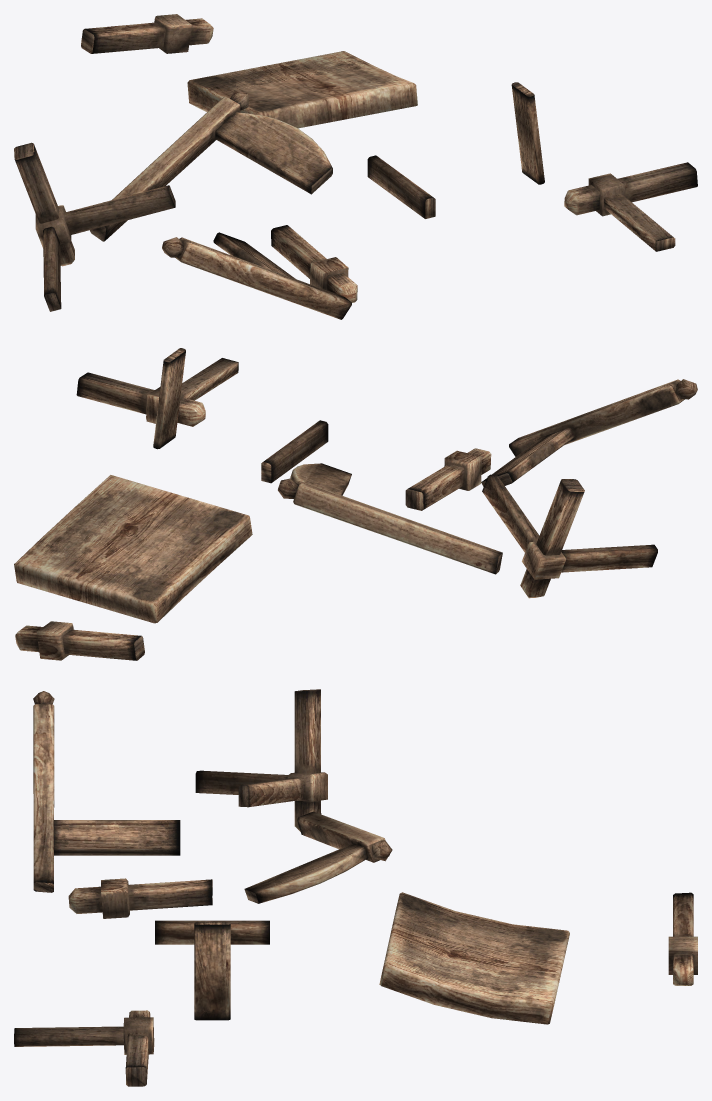
Rendered from chair_wood02_broken.dae.
3 views of the same model, one above another, from view 1: azimuth 30°, elevation 25°; view 2: azimuth 150°, elevation 25°; view 3: azimuth 270°, elevation 25° (orthographic).
Parts seen in each view (by area): view 1: chair_wood02_007, chair_wood02_015, chair_wood02_011, chair_wood02_017, chair_wood02_009, chair_wood02_001, chair_wood02_004, chair_wood02_016, chair_wood02_010; view 2: chair_wood02_007, chair_wood02_011, chair_wood02_015, chair_wood02_017, chair_wood02_009, chair_wood02_001, chair_wood02_004, chair_wood02_016, chair_wood02_010; view 3: chair_wood02_007, chair_wood02_017, chair_wood02_011, chair_wood02_015, chair_wood02_009, chair_wood02_004, chair_wood02_016, chair_wood02_001, chair_wood02_010.
Boxes of the visible parts, x1,y1,x2,y2 form: chair_wood02_007: (187, 51, 417, 128); chair_wood02_015: (90, 90, 332, 241); chair_wood02_011: (14, 142, 175, 311); chair_wood02_017: (162, 232, 351, 319); chair_wood02_009: (564, 162, 697, 251); chair_wood02_001: (81, 14, 213, 53); chair_wood02_004: (271, 225, 357, 302); chair_wood02_016: (511, 82, 544, 184); chair_wood02_010: (367, 155, 435, 218); chair_wood02_007: (14, 475, 252, 623); chair_wood02_011: (482, 474, 657, 598); chair_wood02_015: (278, 463, 502, 574); chair_wood02_017: (481, 379, 697, 486); chair_wood02_009: (76, 358, 238, 426); chair_wood02_001: (15, 621, 144, 660); chair_wood02_004: (405, 448, 491, 510); chair_wood02_016: (153, 348, 185, 449); chair_wood02_010: (261, 420, 328, 483); chair_wood02_007: (379, 892, 569, 1024); chair_wood02_017: (33, 691, 180, 892); chair_wood02_011: (195, 689, 327, 831); chair_wood02_015: (244, 811, 392, 903); chair_wood02_009: (14, 1010, 154, 1086); chair_wood02_004: (68, 878, 212, 918); chair_wood02_016: (194, 922, 230, 1020); chair_wood02_001: (668, 892, 697, 985); chair_wood02_010: (155, 920, 269, 944).
Bounding box in the file's own units: 2.55 × 2.45 × 0.5121.
1 material, 1 textured.
